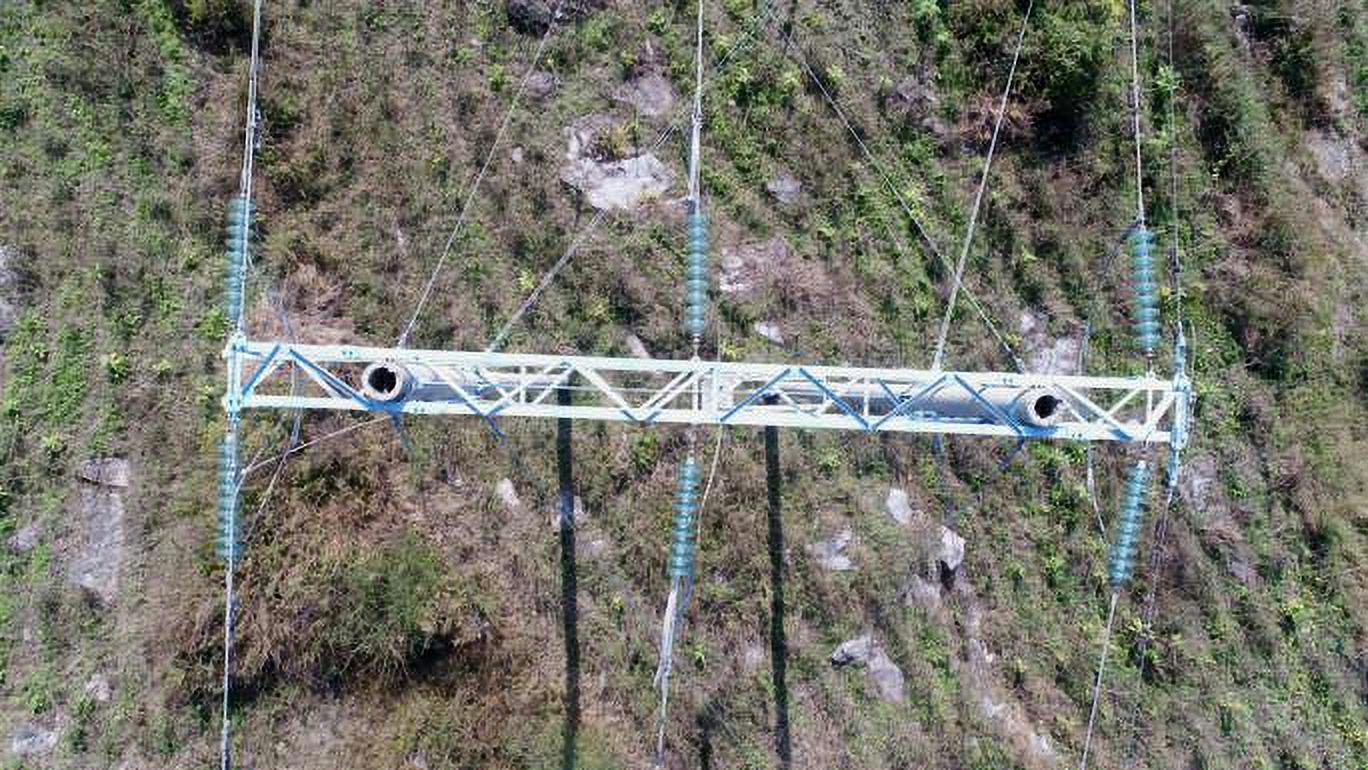insulator: (1101, 460, 1154, 587), (214, 194, 260, 325), (661, 459, 707, 584), (1123, 224, 1165, 356), (674, 209, 716, 339), (207, 438, 246, 567)
